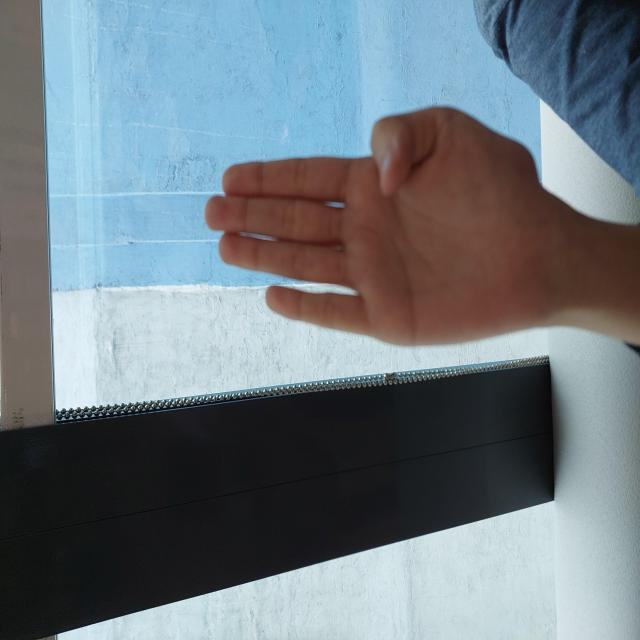B: (291, 204, 538, 536)
